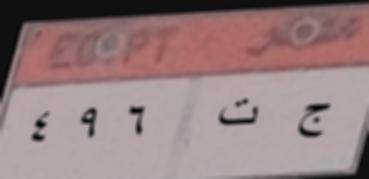4: (25, 108, 54, 146)
6: (125, 100, 149, 144)
9: (74, 103, 101, 146)
jeem: (290, 98, 334, 148)
taa: (212, 94, 264, 130)
